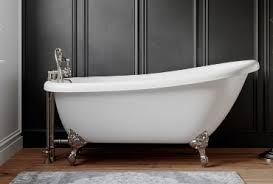bathub: (38, 46, 260, 175)
